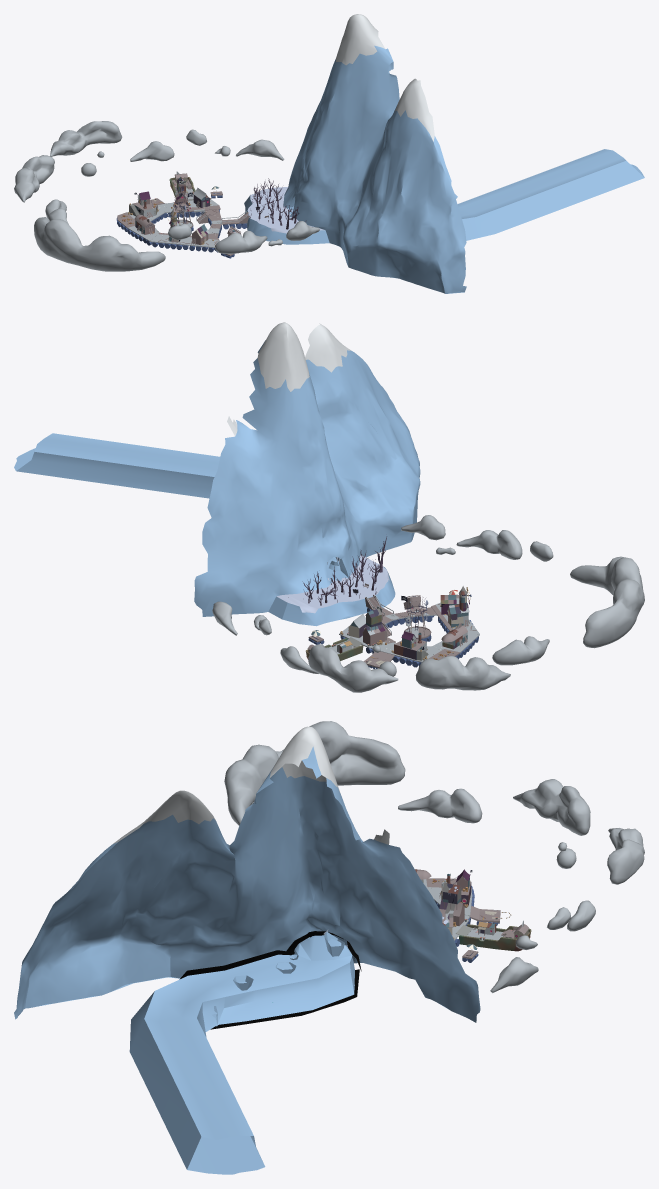
The model's file is Individual_BearTown_03.fbx.
3 renders of one model, top to bottom at view 1: azimuth 30°, elevation 25°; view 2: azimuth 150°, elevation 25°; view 3: azimuth 270°, elevation 25°, orthographic. The views are drawn at different scales.
Visible parts, largest first — view 1: polySurface10, pasted__polySurface300_Group49711, polySurface9, pasted__pCube445; view 2: polySurface10, pasted__polySurface300_Group49711, polySurface9, pasted__polySurface242, pasted__polySurface230, pasted__pCube445; view 3: polySurface10, pasted__polySurface300_Group49711, polySurface11, pasted__polySurface301, pasted__polySurface242.
Boxes of the visible parts, <box> form: polySurface10: <box>244,14,644,293</box>; pasted__polySurface300_Group49711: <box>14,121,319,271</box>; polySurface9: <box>117,199,249,247</box>; pasted__pCube445: <box>132,191,157,217</box>; polySurface10: <box>14,322,420,626</box>; pasted__polySurface300_Group49711: <box>212,515,644,692</box>; polySurface9: <box>339,594,479,662</box>; pasted__polySurface242: <box>362,606,386,645</box>; pasted__polySurface230: <box>447,586,469,627</box>; pasted__pCube445: <box>394,631,426,659</box>; polySurface10: <box>14,726,480,1174</box>; pasted__polySurface300_Group49711: <box>224,721,644,993</box>; polySurface11: <box>179,931,361,1029</box>; pasted__polySurface301: <box>456,924,531,951</box>; pasted__polySurface242: <box>439,880,465,925</box>.
Size of the model in its own units: 22343 by 8056 by 15526.
